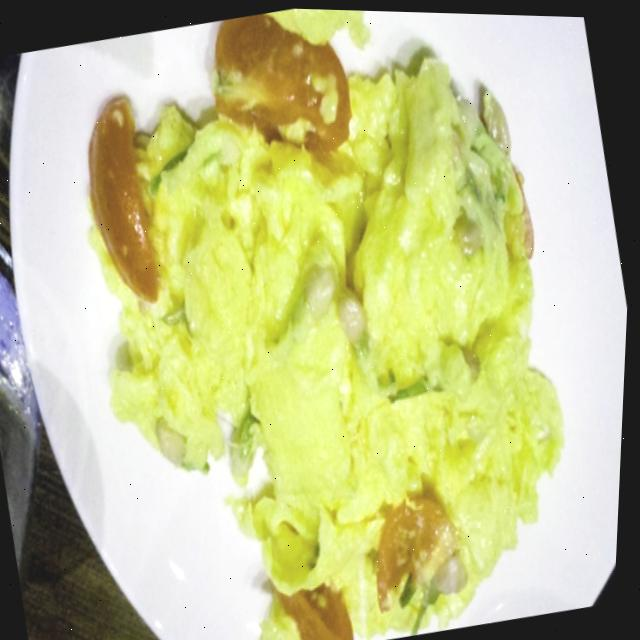鸡蛋料理: (12, 1, 640, 640)
